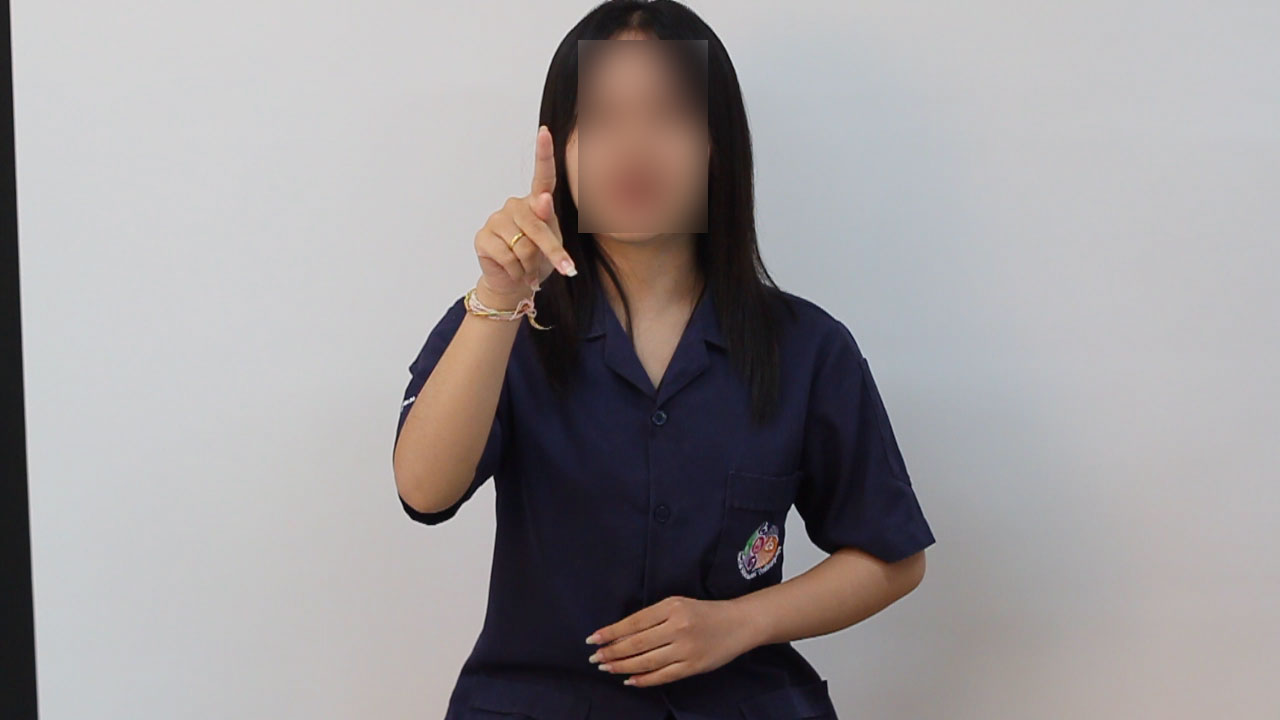por: (446, 111, 586, 307)
